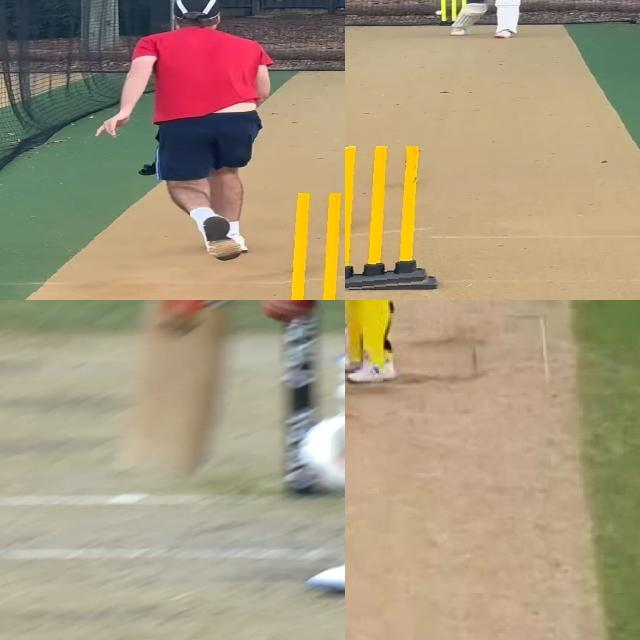Cricket ball: (252, 300, 321, 328), (435, 9, 445, 17)
Stumps: (345, 146, 440, 291), (285, 192, 345, 300)
